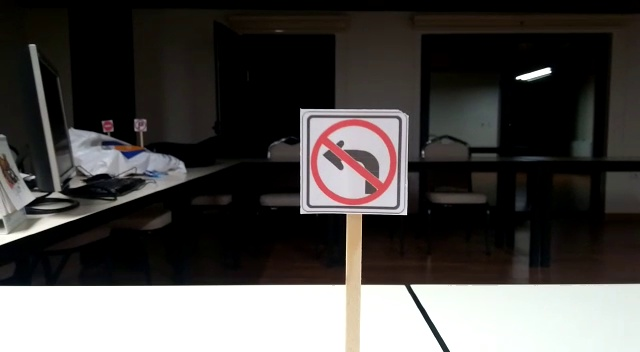sola_donulmez: (304, 114, 403, 208)
